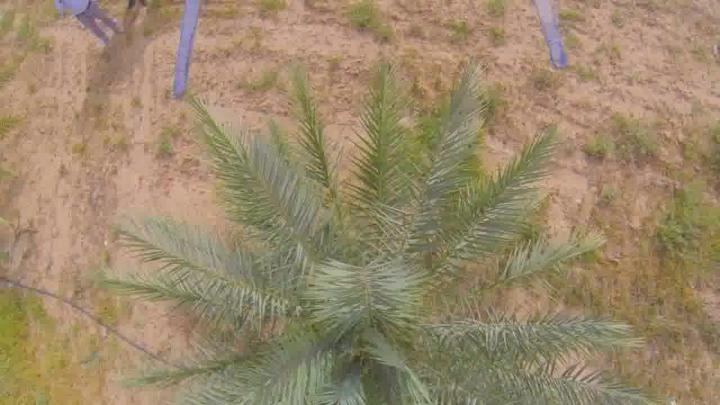Date-Palm-Crown: (249, 206, 489, 404)
